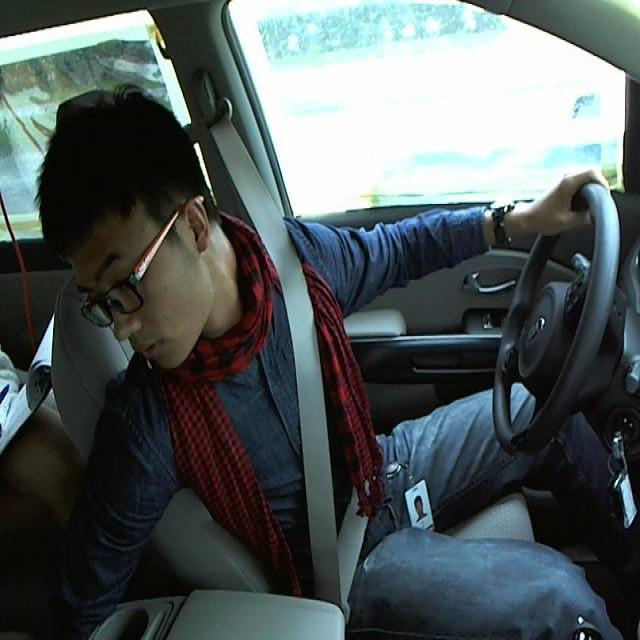seatbelt: (250, 204, 362, 601)
